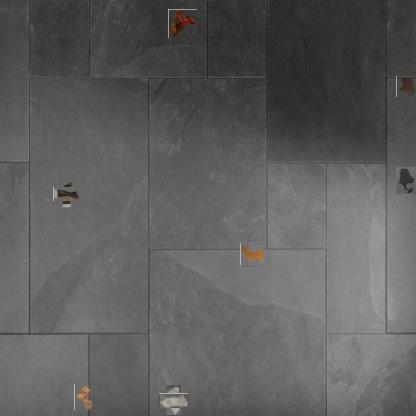dirty: (168, 9, 197, 38), (241, 243, 265, 266), (162, 389, 185, 412), (74, 384, 93, 410), (57, 184, 77, 205)
liquid: (396, 168, 416, 196), (396, 76, 415, 98)
